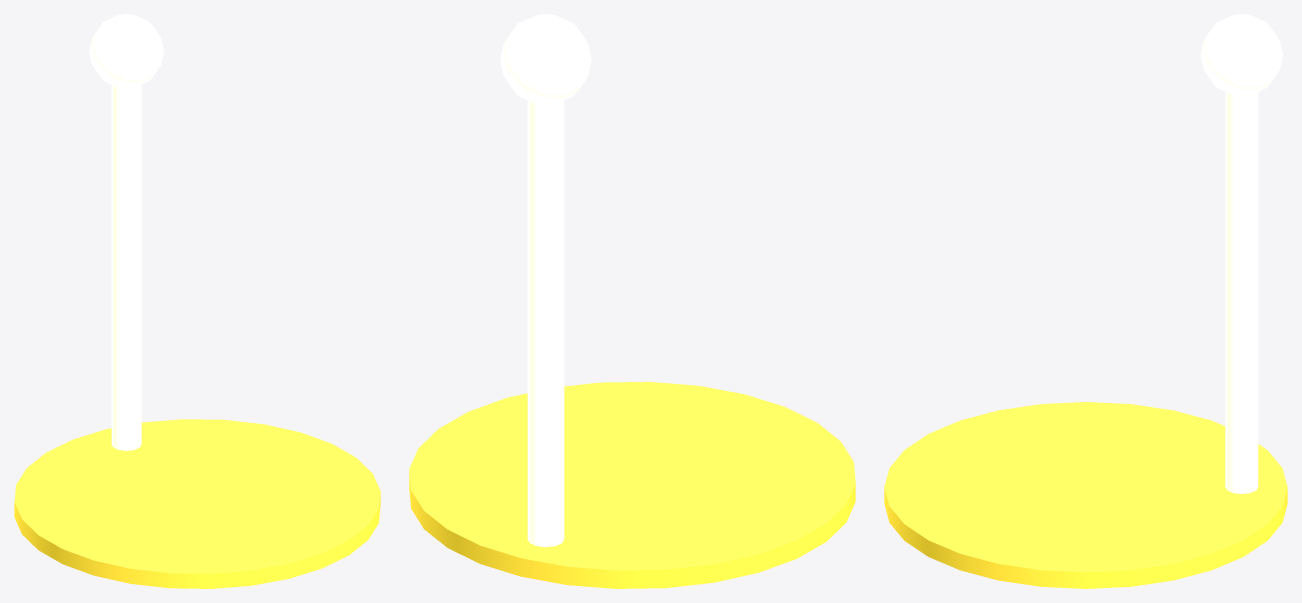
The model's file is goal.gltf.
3 renders of one model, left to right at view 1: azimuth 30°, elevation 25°; view 2: azimuth 150°, elevation 25°; view 3: azimuth 270°, elevation 25°, orthographic. The views are drawn at different scales.
Visible parts, largest first — view 1: goal_0, goal_1, goal_2; view 2: goal_0, goal_1, goal_2; view 3: goal_0, goal_1, goal_2.
Boxes of the visible parts, x1=… form: goal_0: x1=14, y1=419, x2=380, y2=588; goal_1: x1=111, y1=85, x2=141, y2=450; goal_2: x1=89, y1=14, x2=163, y2=88; goal_0: x1=409, y1=381, x2=855, y2=588; goal_1: x1=527, y1=100, x2=564, y2=547; goal_2: x1=500, y1=14, x2=591, y2=105; goal_0: x1=884, y1=402, x2=1287, y2=588; goal_1: x1=1225, y1=92, x2=1258, y2=493; goal_2: x1=1200, y1=14, x2=1282, y2=96.
Bounding box in the file's own units: 4.4 × 5.85 × 4.4.
